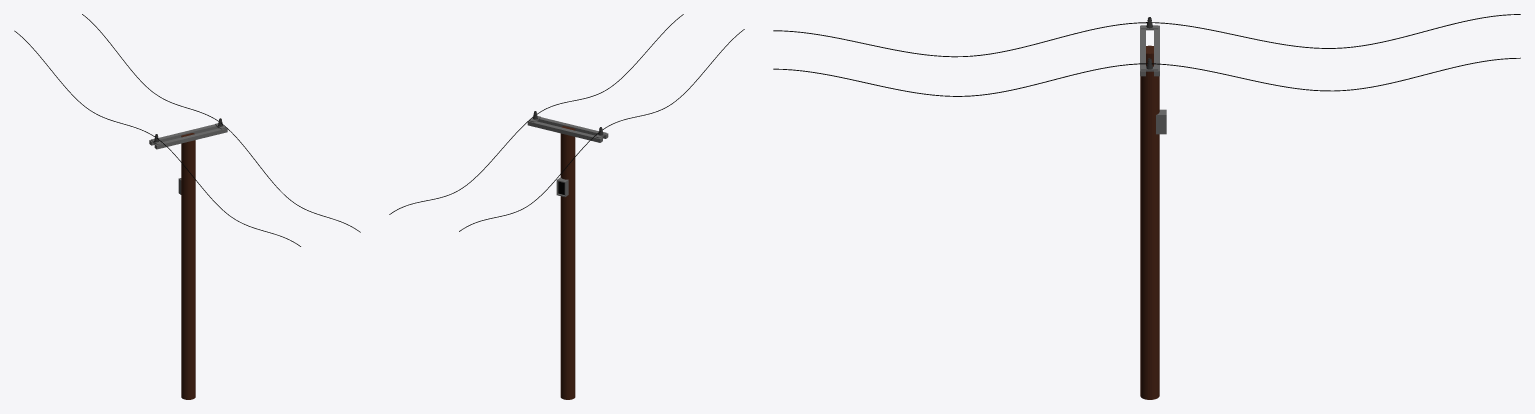
The model's file is ElectricalPole.fbx.
3 renders of one model, left to right at view 1: azimuth 30°, elevation 25°; view 2: azimuth 150°, elevation 25°; view 3: azimuth 270°, elevation 25°, orthographic. The views are drawn at different scales.
Parts seen in each view (by area): view 1: Electrical Pole Street; view 2: Electrical Pole Street; view 3: Electrical Pole Street.
Part boxes in pixels (box(x1,y1,x2,y2)): Electrical Pole Street: box(14, 14, 360, 399); Electrical Pole Street: box(389, 14, 744, 399); Electrical Pole Street: box(773, 14, 1520, 399).
Size of the model in its own units: 3.86 by 14.18 by 26.67.
